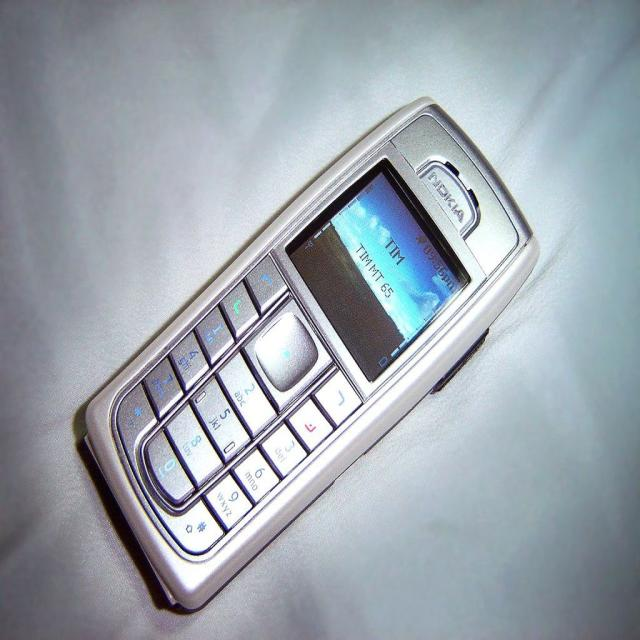Mobile-phone: (72, 90, 534, 621)
